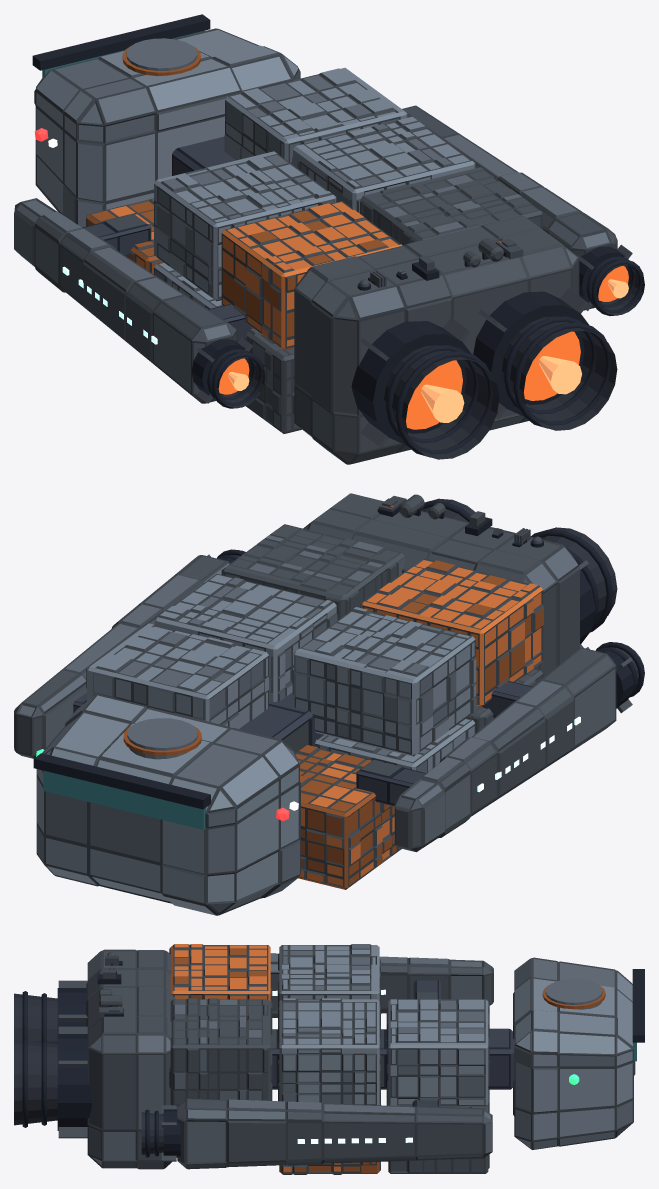
Rendered from porter.glb.
3 views of the same model, one above another, from view 1: azimuth 30°, elevation 25°; view 2: azimuth 150°, elevation 25°; view 3: azimuth 270°, elevation 25° (orthographic). The views are drawn at different scales.
Parts seen in each view (by area): view 1: porter_mesh; view 2: porter_mesh; view 3: porter_mesh.
Boxes of the visible parts, <box> form: porter_mesh: <box>14,14,644,464</box>; porter_mesh: <box>14,493,644,915</box>; porter_mesh: <box>14,944,644,1174</box>.
Bounding box in the file's own units: 8.09 × 3.43 × 12.77.
